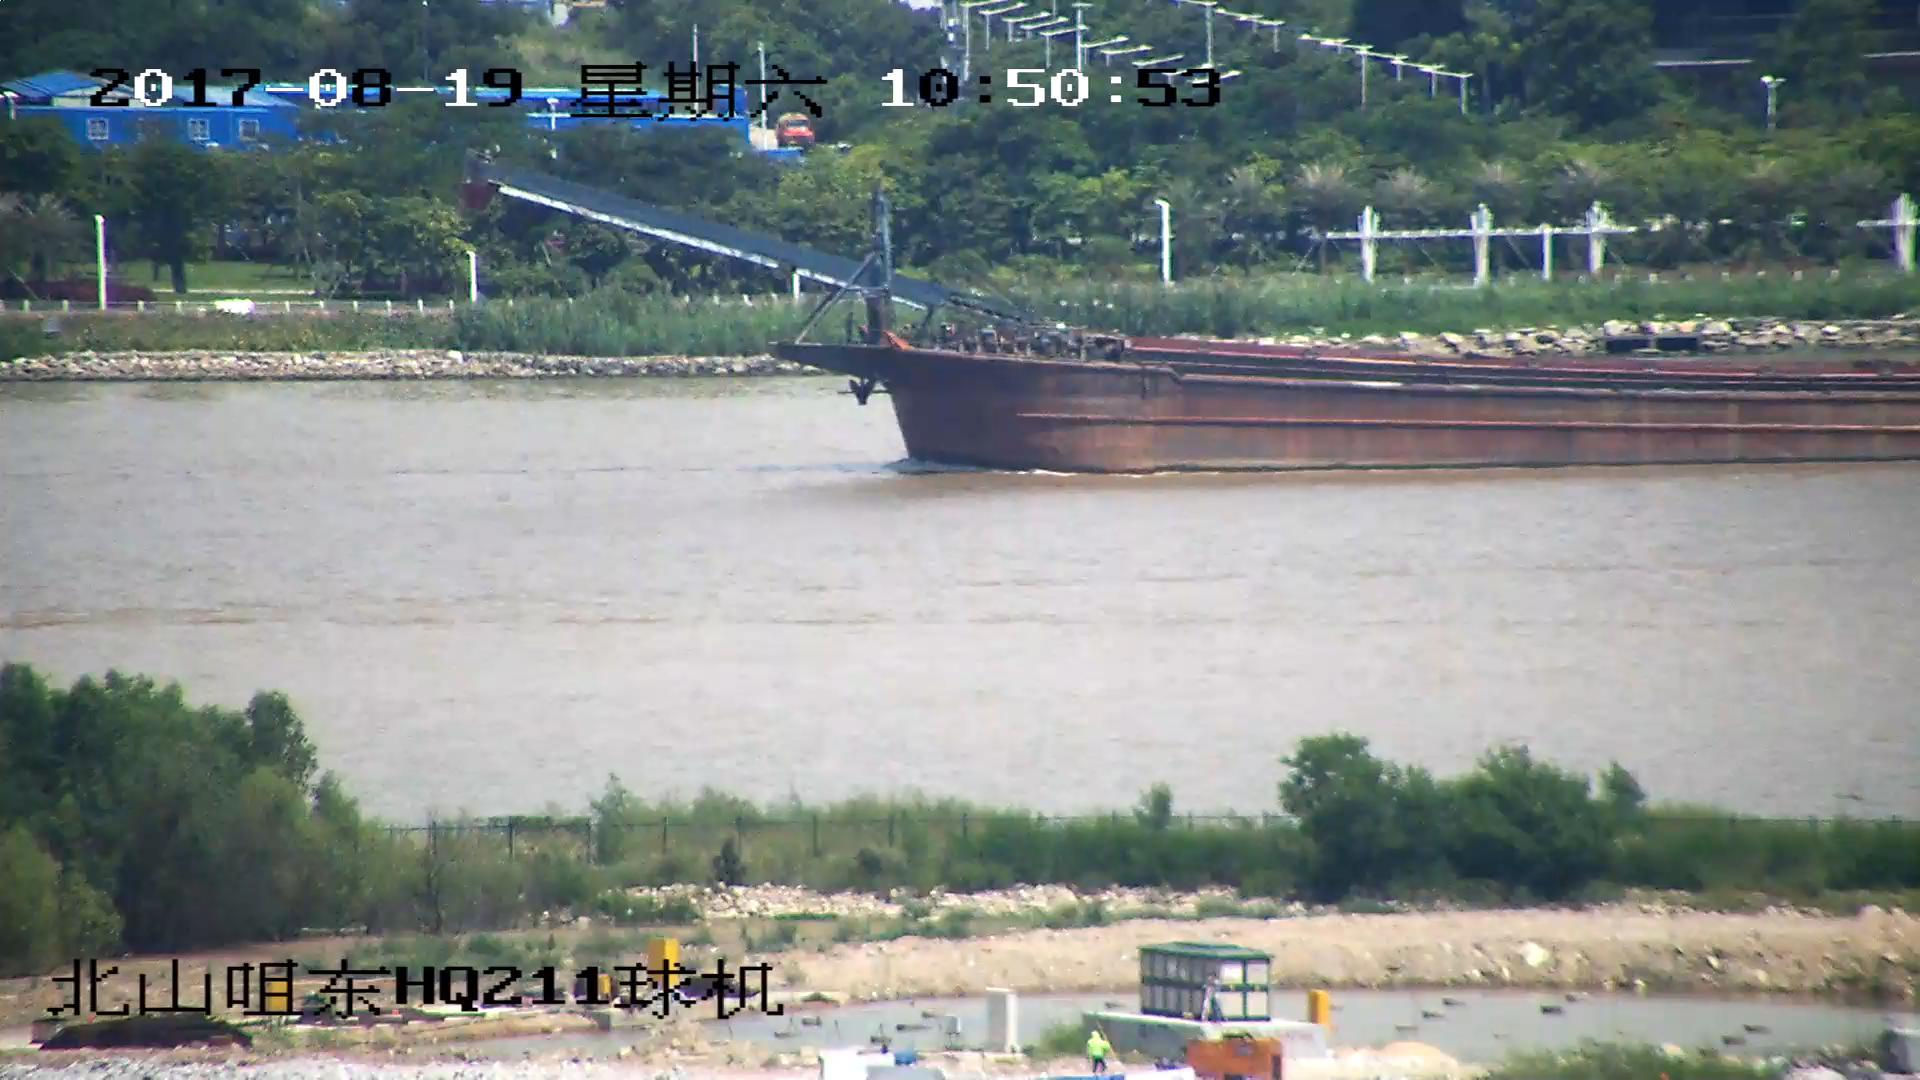Ship: (477, 160, 1920, 471)
